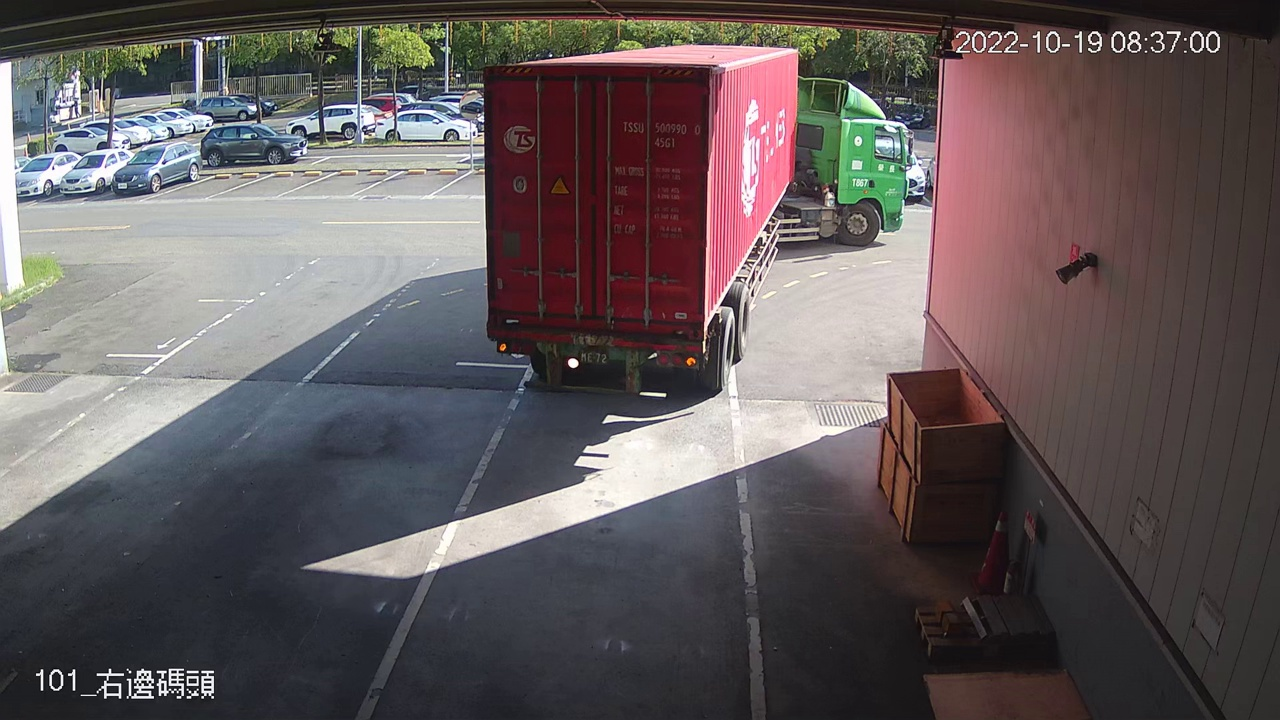container: (617, 115, 704, 151)
